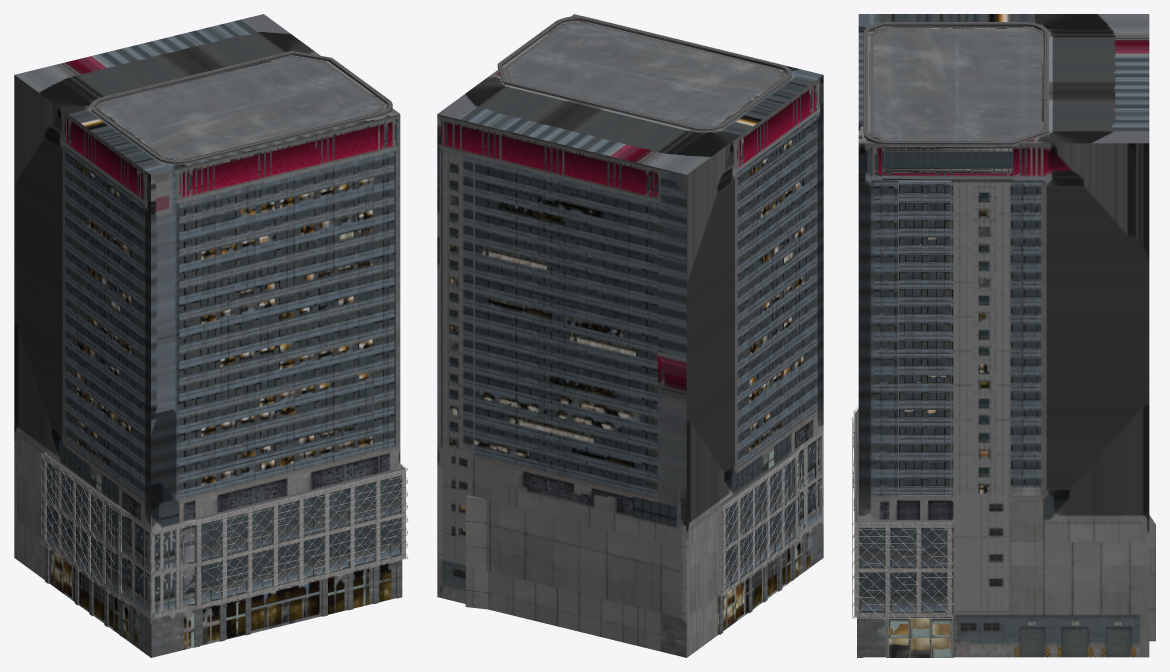
Rendered from m99_office_tower.fbx.
3 views of the same model, side by side, from view 1: azimuth 30°, elevation 25°; view 2: azimuth 150°, elevation 25°; view 3: azimuth 270°, elevation 25° (orthographic). The views are drawn at different scales.
Parts seen in each view (by area): view 1: m99_office_tower_LOD0; view 2: m99_office_tower_LOD0; view 3: m99_office_tower_LOD0.
Boxes of the visible parts, x1,y1,x2,y2 form: m99_office_tower_LOD0: (14,14,408,657); m99_office_tower_LOD0: (437,14,823,657); m99_office_tower_LOD0: (852,14,1155,657).
Size of what is drawn, in the model's own units: 58.84 by 105 by 56.01.
